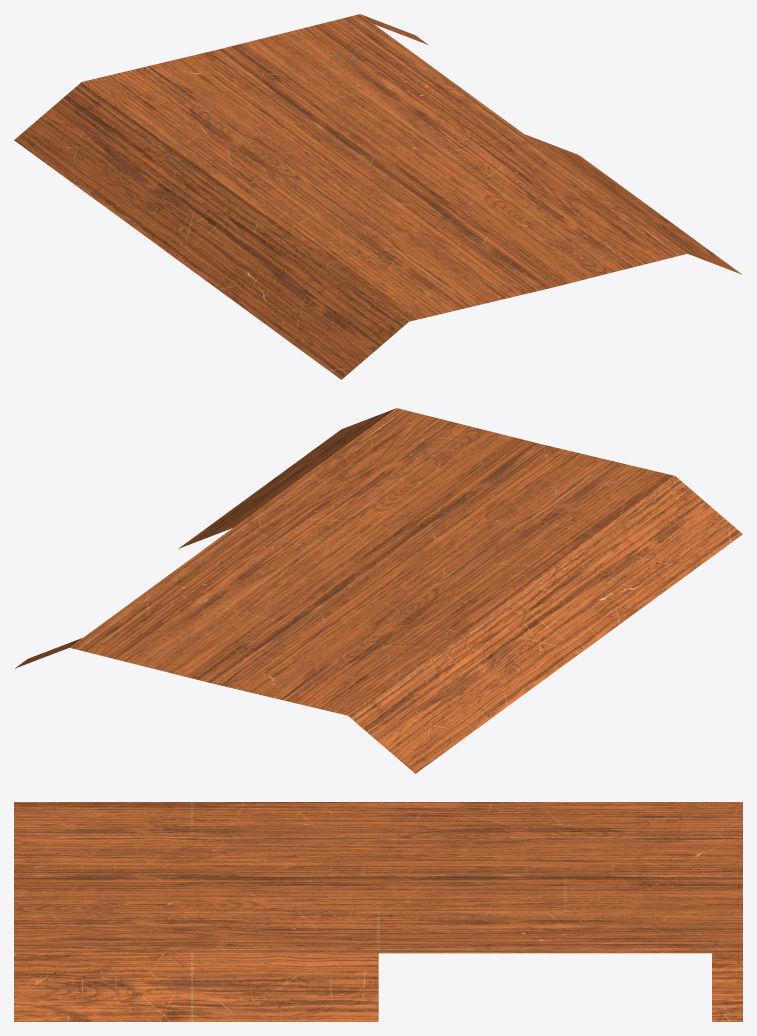
File: SM_Roof.fbx
The picture shows the model from 3 angles, top to bottom: view 1: azimuth 30°, elevation 25°; view 2: azimuth 150°, elevation 25°; view 3: azimuth 270°, elevation 25°; orthographic projection. The views are drawn at different scales.
Parts seen in each view (by area): view 1: SM_Roof_LOD0; view 2: SM_Roof_LOD0; view 3: SM_Roof_LOD0.
Part boxes in pixels (x1,y1,x2,y2): SM_Roof_LOD0: (14, 14, 741, 379); SM_Roof_LOD0: (15, 408, 742, 773); SM_Roof_LOD0: (14, 802, 742, 1021).
Bounding box in the file's own units: 3484 × 4922 × 346.
